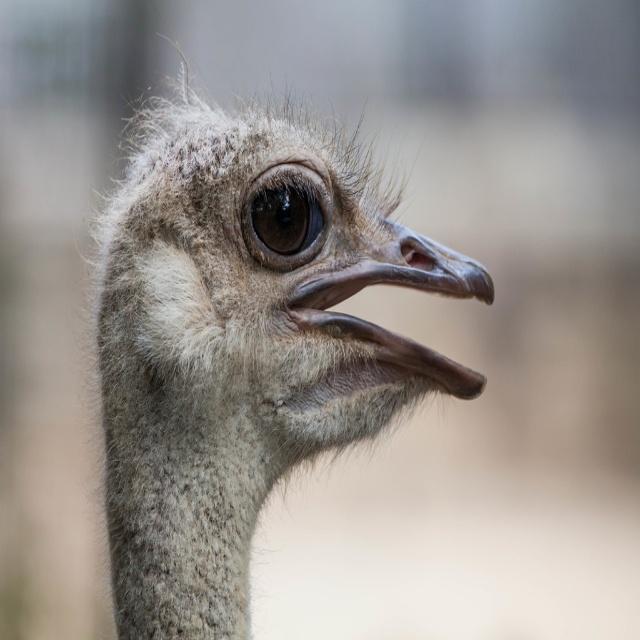Ostrich: (80, 56, 496, 637)
